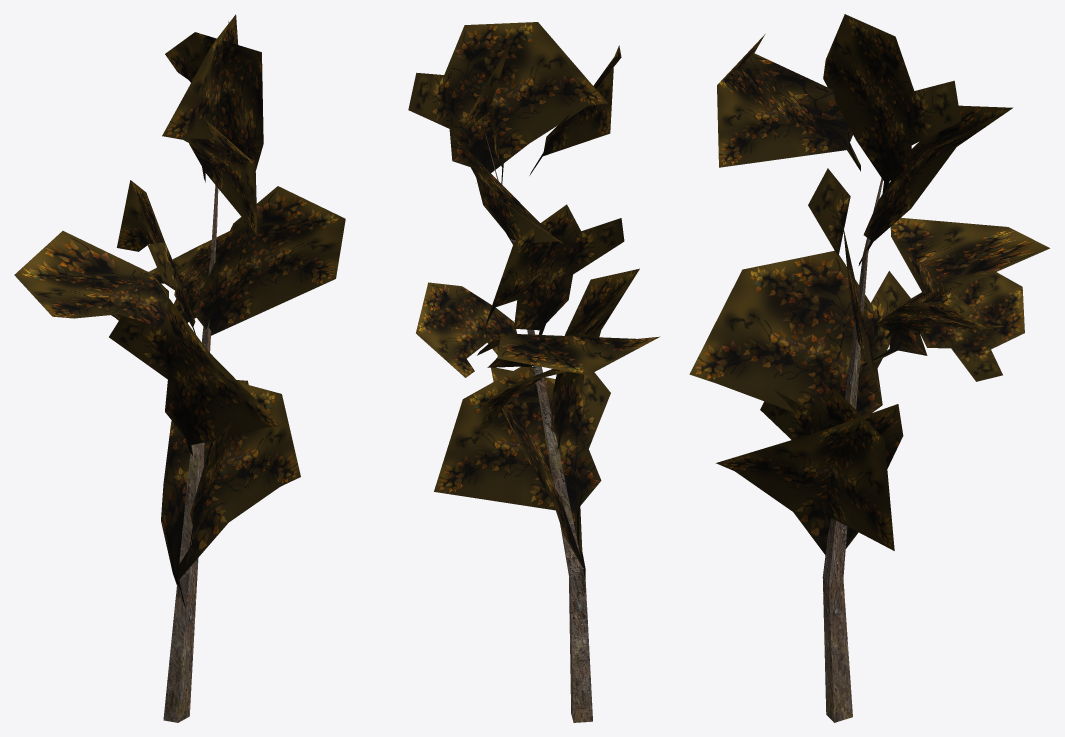
File: tree_2_lod.fbx
The picture shows the model from 3 angles, left to right: view 1: azimuth 30°, elevation 25°; view 2: azimuth 150°, elevation 25°; view 3: azimuth 270°, elevation 25°; orthographic projection. The views are drawn at different scales.
Visible parts, largest first — view 1: Mesh Object; view 2: Mesh Object; view 3: Mesh Object.
Boxes of the visible parts, x1,y1,x2,y2 form: Mesh Object: [14, 14, 345, 722]; Mesh Object: [408, 22, 659, 722]; Mesh Object: [689, 14, 1049, 722].
Size of the model in its own units: 3.25 by 7.39 by 3.33.
